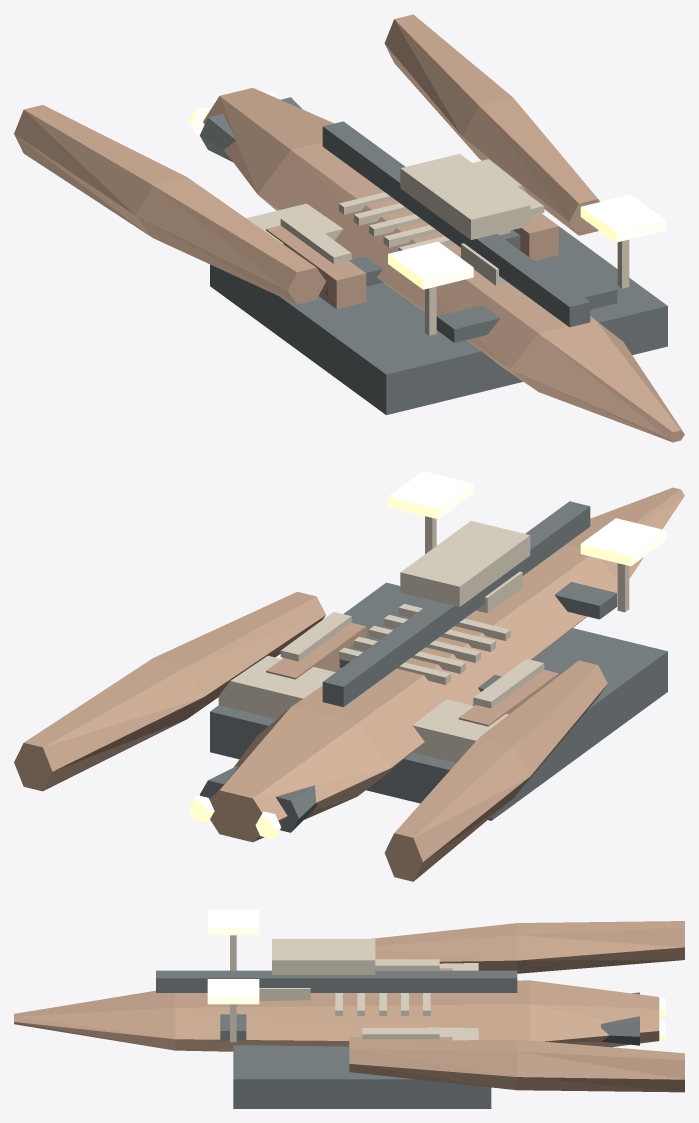
3 views of the same model, one above another, from view 1: azimuth 30°, elevation 25°; view 2: azimuth 150°, elevation 25°; view 3: azimuth 270°, elevation 25° (orthographic). The views are drawn at different scales.
Size of the model in its own units: 5.46 by 1.9 by 10.61.
